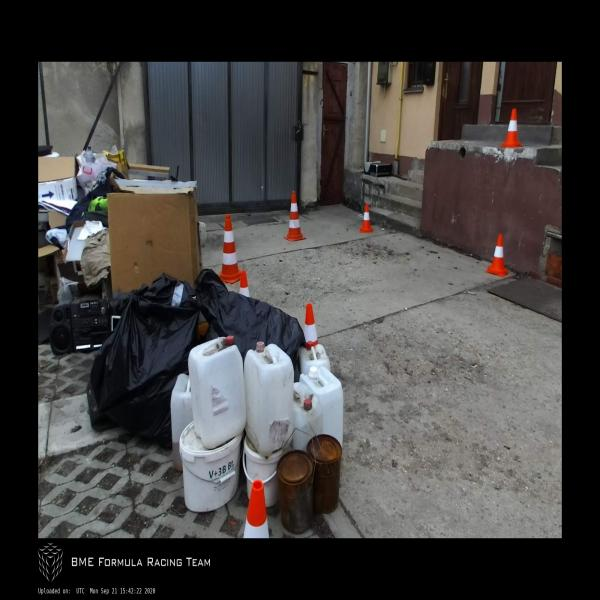large_orange_cone: (243, 479, 270, 537), (220, 214, 241, 284), (284, 190, 305, 242), (302, 304, 320, 346)
orange_cone: (486, 234, 508, 278), (499, 109, 522, 148), (359, 204, 372, 234)
